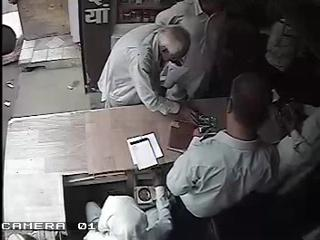Normal: (165, 72, 287, 238), (97, 23, 197, 122), (156, 0, 238, 101)
